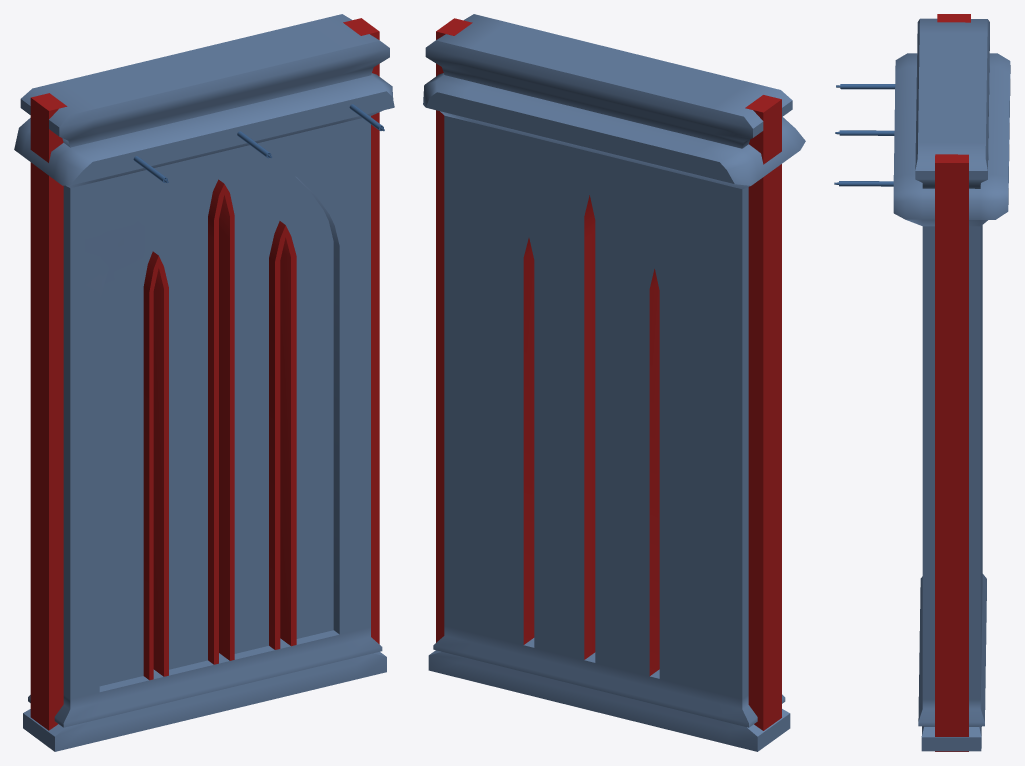
The model's file is Ruins_High_Wall.FBX.
The picture shows the model from 3 angles, left to right: view 1: azimuth 30°, elevation 25°; view 2: azimuth 150°, elevation 25°; view 3: azimuth 270°, elevation 25°; orthographic projection. The views are drawn at different scales.
Visible parts, largest first — view 1: Box045, Object002, Cylinder003; view 2: Box045, Object002; view 3: Box045, Object002, Cylinder003.
Boxes of the visible parts, left/top/right/bottom form: Box045: left=14, top=14, right=394, bottom=751; Object002: left=30, top=18, right=379, bottom=730; Cylinder003: left=133, top=104, right=384, bottom=183; Box045: left=423, top=14, right=805, bottom=751; Object002: left=436, top=18, right=781, bottom=730; Box045: left=893, top=18, right=1010, bottom=751; Object002: left=935, top=14, right=970, bottom=751; Cylinder003: left=834, top=84, right=895, bottom=186.
Bounding box in the file's own units: 90.2 × 165 × 44.68.
